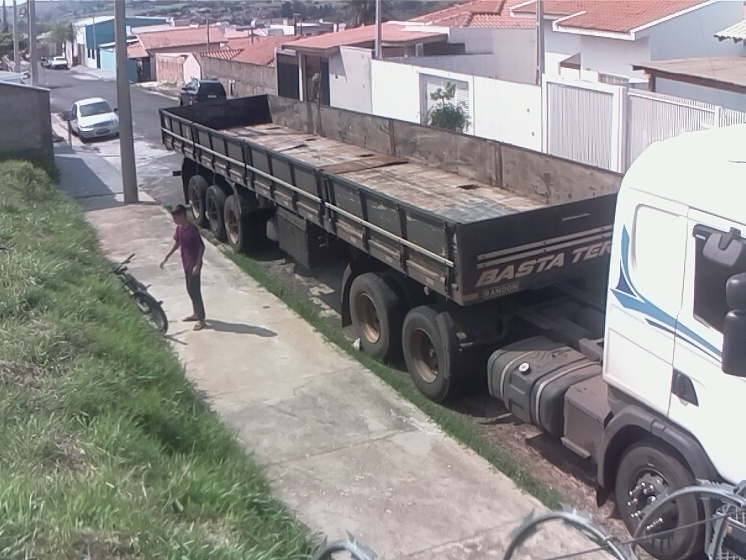person: (154, 204, 210, 335)
